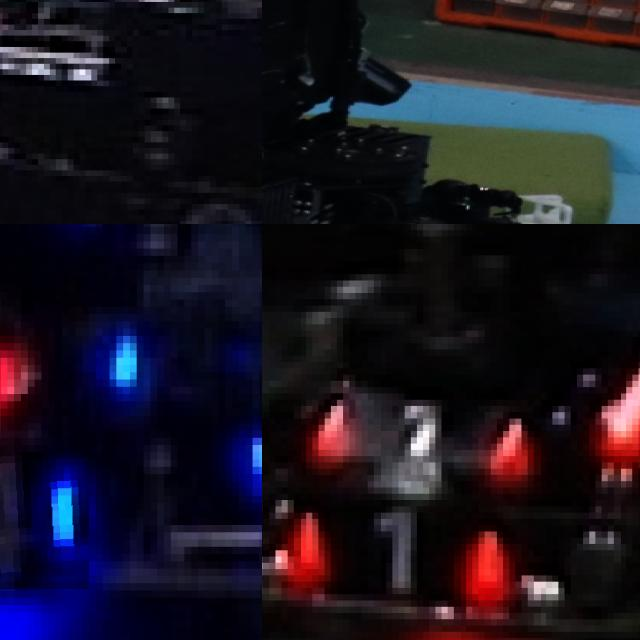B4: (0, 452, 89, 590)
R1: (282, 494, 516, 600), (306, 381, 522, 468)
